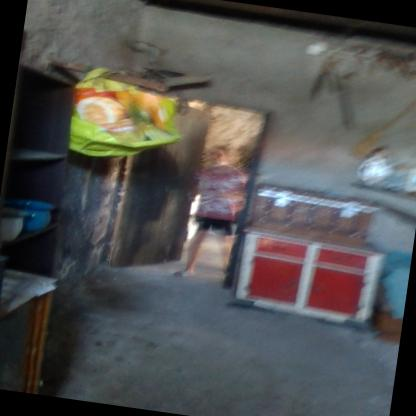semi: (108, 79, 278, 280)
